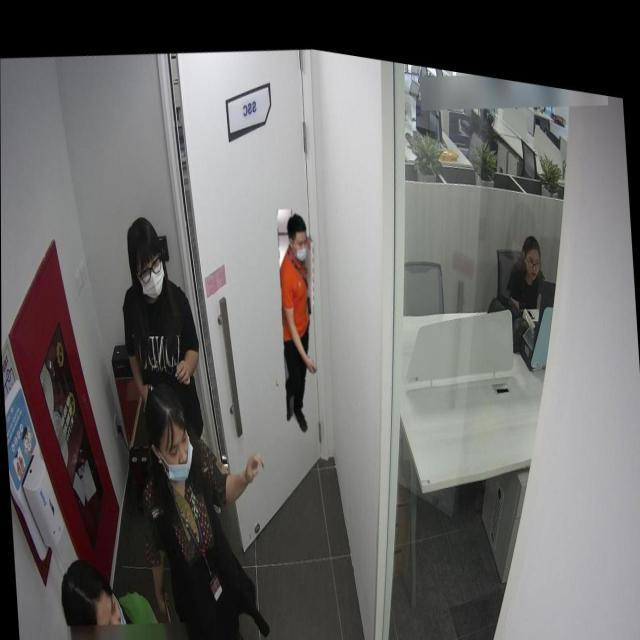hairnet: (160, 415, 196, 480)
